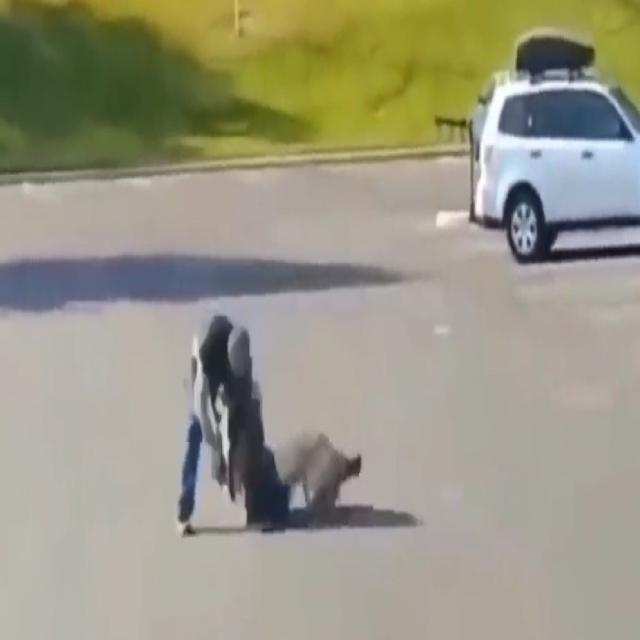fight: (146, 308, 378, 526)
